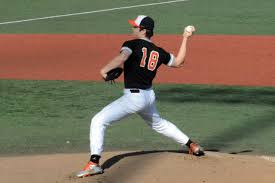baseball: (184, 23, 196, 35)
baseball player: (74, 12, 207, 179)
